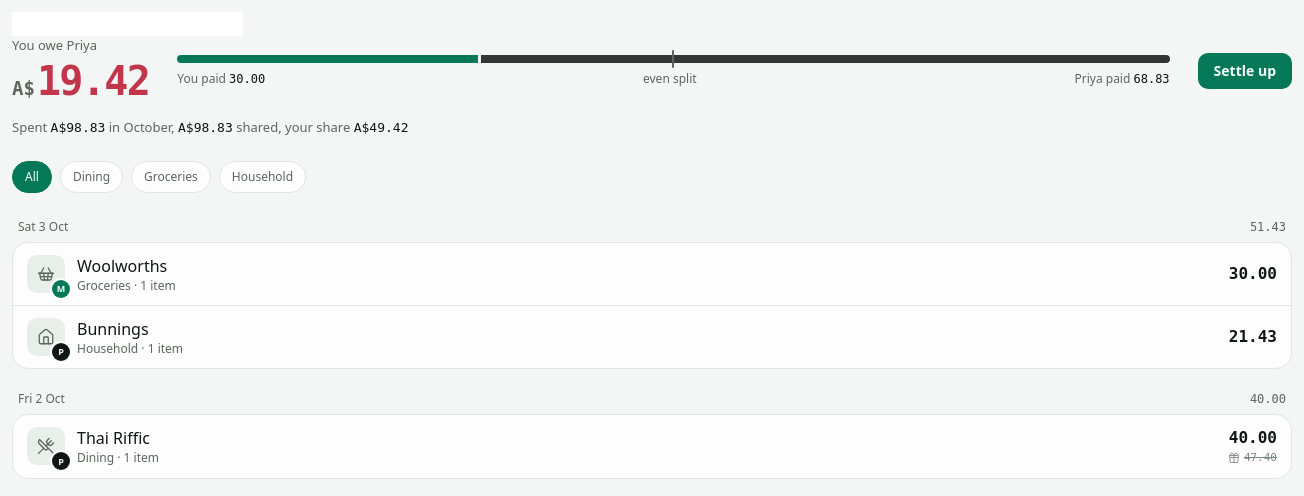
Test: ExpenseList category filter › keeps only the expenses with an item in the chosen category
Click the button "Household": (263, 177) [219,161,306,193]
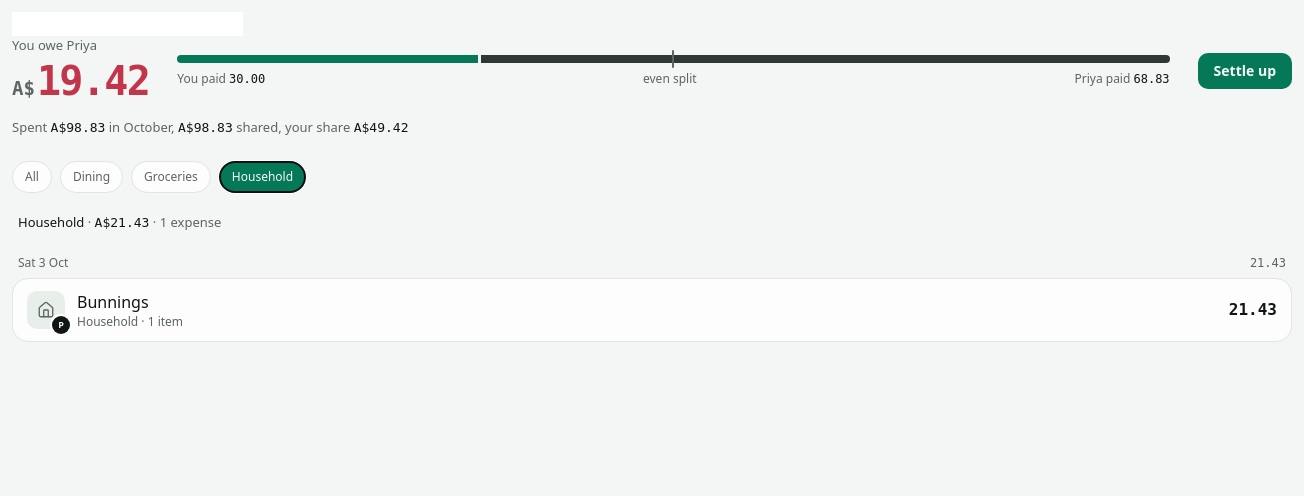
Now the button "Woolworths" is gone
Now the button "Thai Riffic" is gone
Now the text "Fri 2 Oct" is gone
